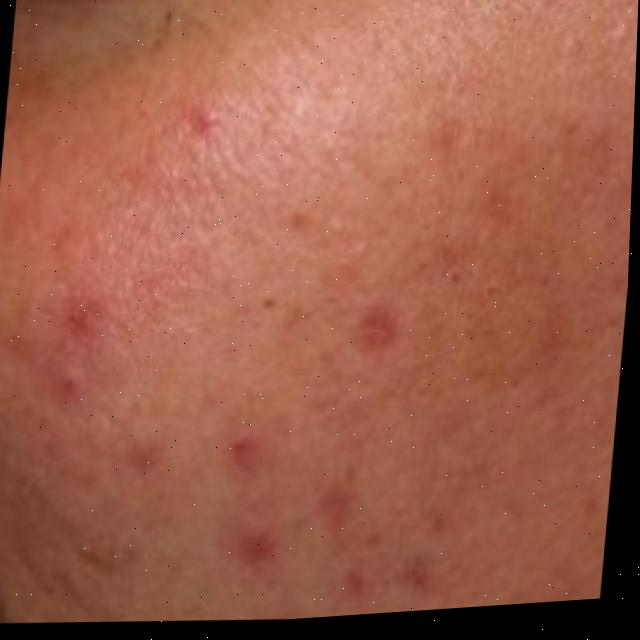Acne: (0, 28, 496, 639)
